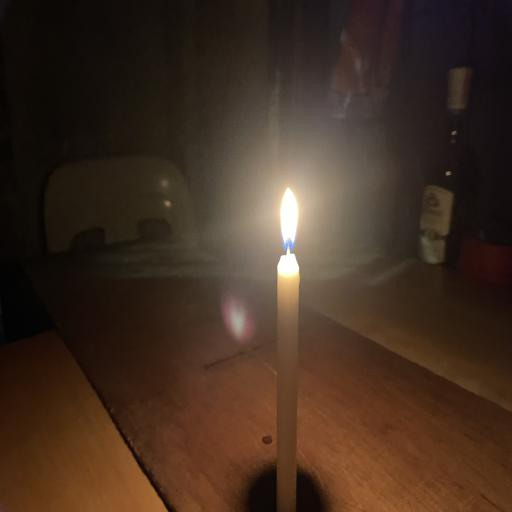fire: (255, 167, 335, 282)
